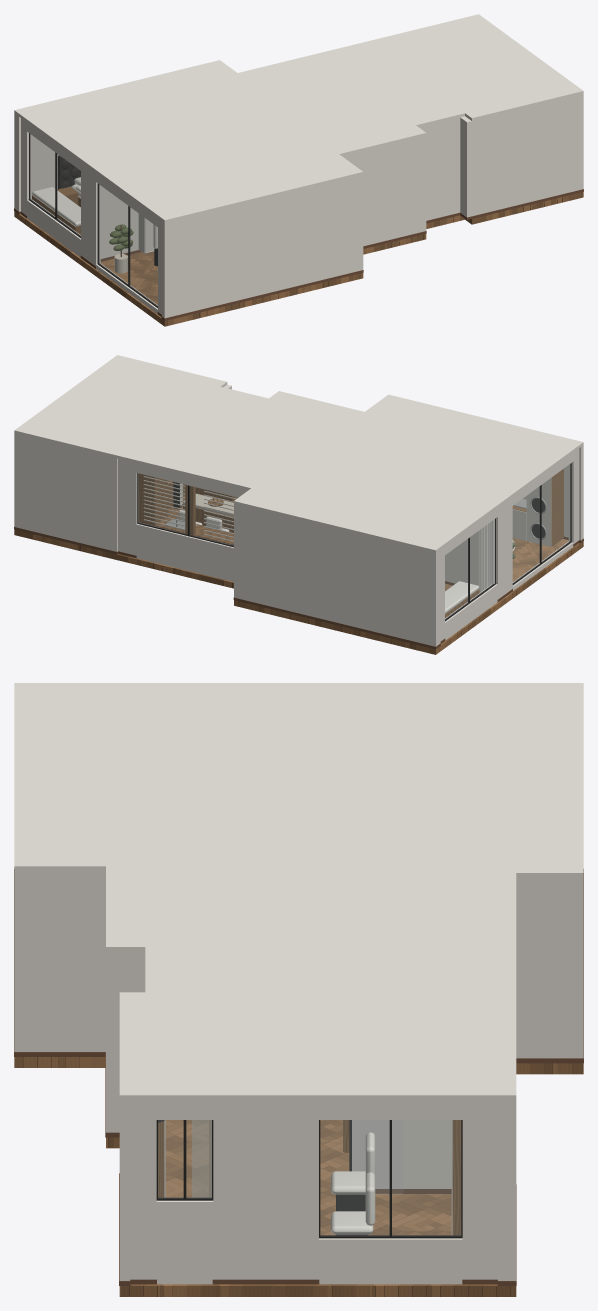
Rendered from kujiale-home.glb.
3 views of the same model, one above another, from view 1: azimuth 30°, elevation 25°; view 2: azimuth 150°, elevation 25°; view 3: azimuth 270°, elevation 25° (orthographic). The views are drawn at different scales.
Visible parts, largest first — view 1: ceiling / Warm chalk plaster, wall / Warm chalk plaster, floor / Herringbone oak floor, Balcony west glazing glass, Bedroom west bay glass, wall / Walnut edge, wall / Charcoal fittings, furniture / Warm white bedding, furniture / Warm framed cabinetry, furniture / Charcoal woven sofa, furniture / Honey oak veneer, furniture / Soft olive foliage; view 2: ceiling / Warm chalk plaster, wall / Warm chalk plaster, floor / Herringbone oak floor, Kitchen north windows glass, Balcony west glazing glass, furniture / Honey oak veneer, Bedroom west bay glass, wall / Warm framed cabinetry, wall / Charcoal fittings, furniture / Ivory cabinetry, wall / Walnut edge, furniture / Warm white bedding (+3 smaller); view 3: ceiling / Warm chalk plaster, wall / Warm chalk plaster, Study east window glass, floor / Herringbone oak floor, Bath east window glass, wall / Walnut edge, furniture / Warm white bedding, Study glazed divider parked door, wall / Charcoal fittings, furniture / Honey oak veneer, bath shower glass.
Part boxes in pixels (x1,y1,x2,y2): ceiling / Warm chalk plaster: (14,14,583,222); wall / Warm chalk plaster: (14,94,583,318); floor / Herringbone oak floor: (14,192,583,326); Balcony west glazing glass: (99,185,157,305); Bedroom west bay glass: (30,134,80,235); wall / Walnut edge: (14,189,583,320); wall / Charcoal fittings: (28,133,157,307); furniture / Warm white bedding: (32,177,80,226); furniture / Warm framed cabinetry: (138,213,157,253); furniture / Charcoal woven sofa: (58,155,80,189); furniture / Honey oak veneer: (32,186,80,234); furniture / Soft olive foliage: (109,224,133,250); ceiling / Warm chalk plaster: (14,355,583,552); wall / Warm chalk plaster: (14,384,583,646); floor / Herringbone oak floor: (14,493,583,654); Kitchen north windows glass: (138,474,236,545); Balcony west glazing glass: (513,464,570,582); furniture / Honey oak veneer: (139,468,563,617); Bedroom west bay glass: (445,520,494,619); wall / Warm framed cabinetry: (143,476,236,541); wall / Charcoal fittings: (137,463,571,621); furniture / Ivory cabinetry: (512,478,551,546); wall / Walnut edge: (14,504,583,649); furniture / Warm white bedding: (179,510,478,613); ceiling / Warm chalk plaster: (14,683,583,1100); wall / Warm chalk plaster: (14,872,583,1284); Study east window glass: (320,1120,460,1235); floor / Herringbone oak floor: (14,1057,583,1296); Bath east window glass: (158,1120,211,1197); wall / Walnut edge: (14,869,583,1285); furniture / Warm white bedding: (331,1132,375,1234); Study glazed divider parked door: (353,1120,402,1193); wall / Charcoal fittings: (156,1120,462,1238); furniture / Honey oak veneer: (158,1120,461,1235); bath shower glass: (192,1120,211,1197).
Bounding box in the file's own units: 12.92 × 2.94 × 7.54.
Materials: 22 (4 with a texture image).
